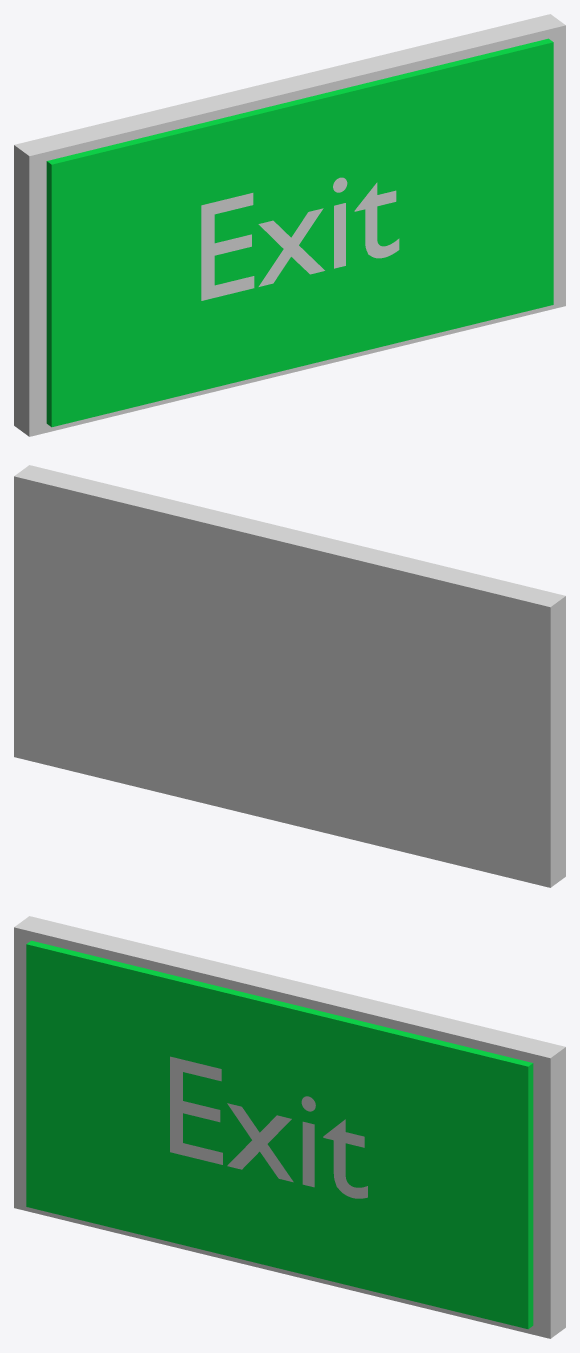
The model's file is exitlight.fbx.
3 views of the same model, one above another, from view 1: azimuth 30°, elevation 25°; view 2: azimuth 150°, elevation 25°; view 3: azimuth 330°, elevation 25° (orthographic).
Visible parts, largest first — view 1: Cube.001, Cube, Exit; view 2: Cube; view 3: Cube.001, Cube, Exit.
Boxes of the visible parts, box(x1,y1,x2,y2) form: Cube.001: box(46, 38, 553, 427); Cube: box(14, 14, 565, 436); Exit: box(201, 177, 399, 300); Cube: box(14, 465, 565, 887); Cube.001: box(26, 940, 533, 1329); Cube: box(14, 916, 565, 1338); Exit: box(170, 1056, 367, 1198).
Size of the model in its own units: 400 by 200 by 30.3.
